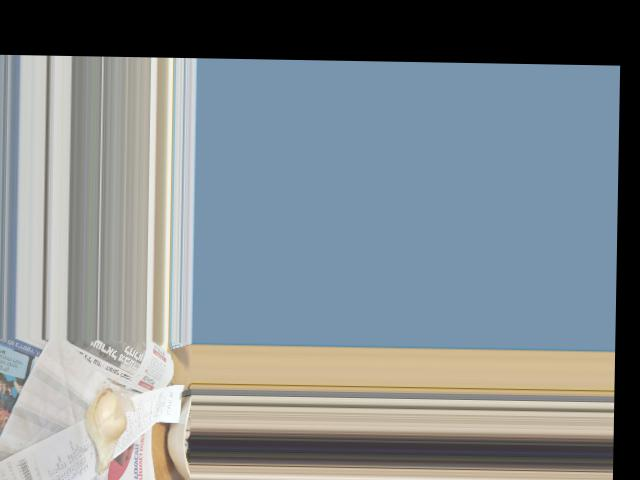onion: (84, 387, 128, 465)
